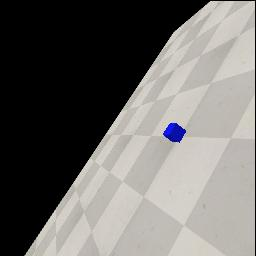box: (163, 123, 186, 143)
